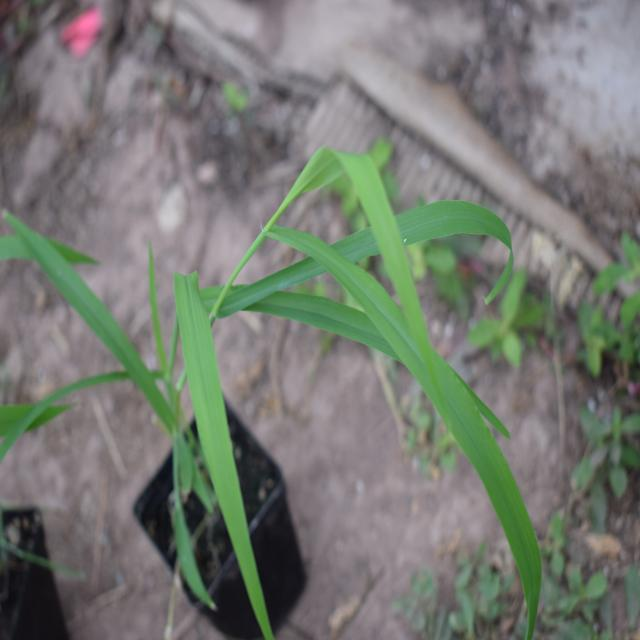crabgrass: (142, 158, 534, 592)
